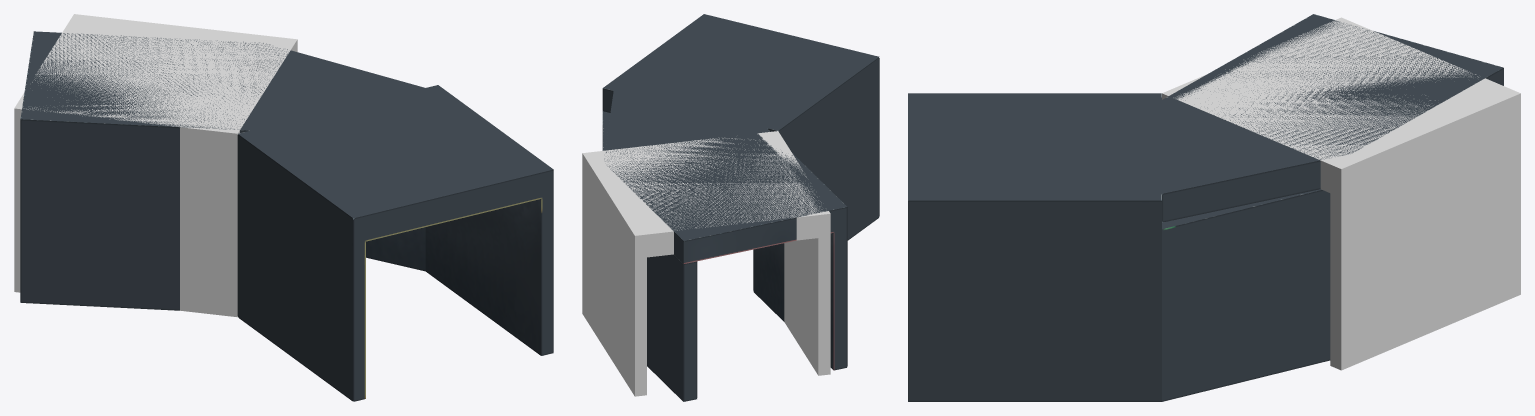
Rendered from TunnelBend.fbx.
3 renders of one model, left to right at view 1: azimuth 30°, elevation 25°; view 2: azimuth 150°, elevation 25°; view 3: azimuth 270°, elevation 25°, orthographic. The views are drawn at different scales.
Visible parts, largest first — view 1: cuboid_1, cuboid; view 2: cuboid_1, cuboid; view 3: cuboid_1, cuboid.
Boxes of the visible parts, box(x1,y1,x2,y2) form: cuboid_1: box(20, 31, 553, 401); cuboid: box(14, 14, 297, 317); cuboid_1: box(602, 14, 879, 401); cuboid: box(582, 131, 830, 396); cuboid_1: box(908, 14, 1503, 401); cuboid: box(1162, 17, 1520, 370).
Size of the model in its own units: 2.72 by 1.37 by 3.77.
1 material, 1 textured.
